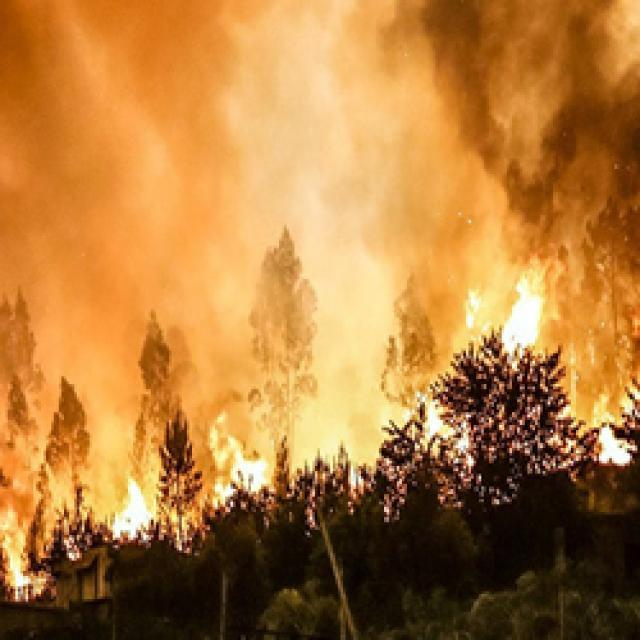Fire: (386, 342, 554, 509), (0, 478, 150, 610), (50, 460, 232, 568), (431, 250, 560, 390), (185, 398, 304, 516), (578, 371, 640, 467)
Smoke: (0, 0, 500, 359), (327, 0, 640, 328), (293, 264, 427, 496)
